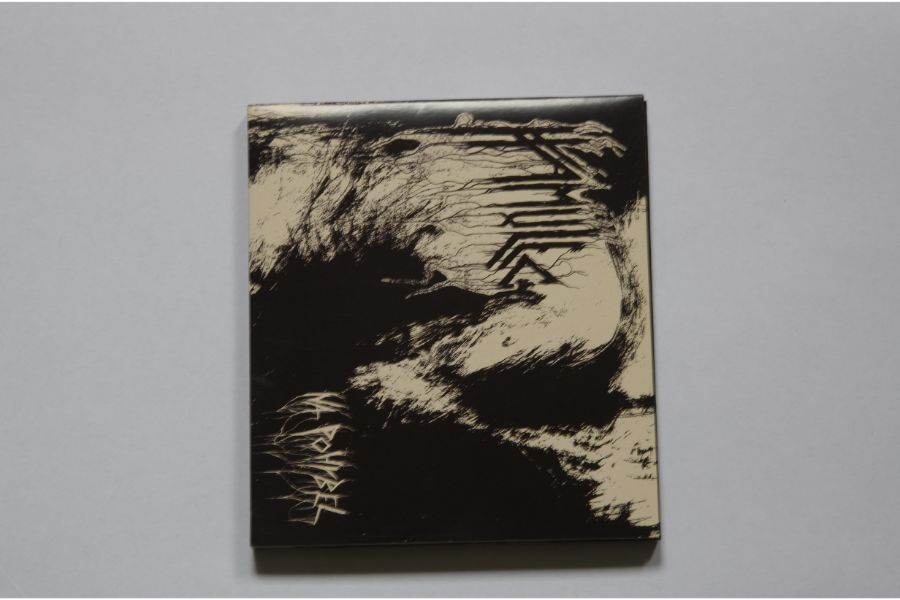album: (244, 93, 665, 546)
